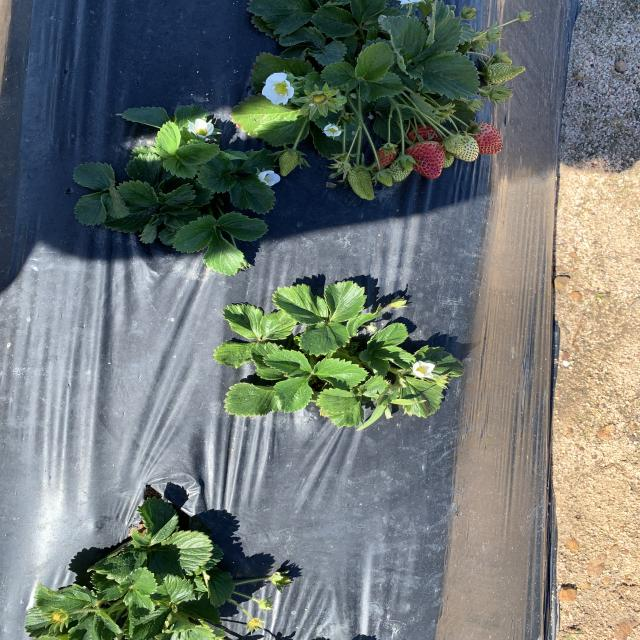unripe: (405, 140, 445, 180), (471, 125, 505, 156), (369, 142, 400, 172), (403, 121, 441, 145)
